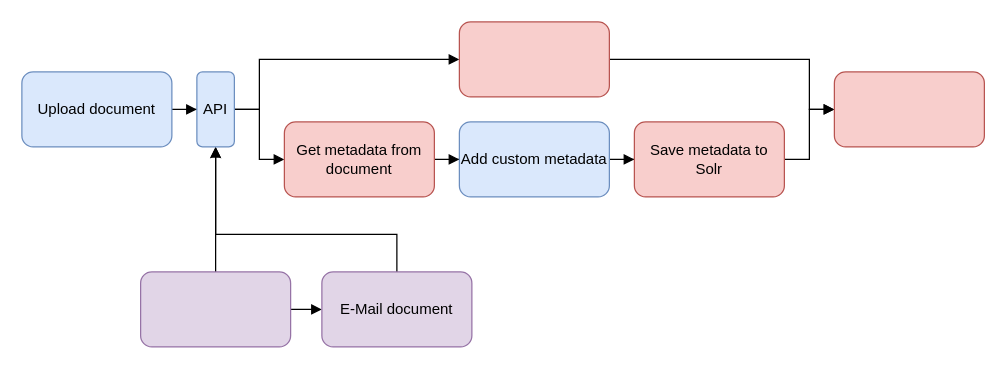
Image size: 1006x369. Some labels were removed from this diagram. The shapes that lost their labels are listed below. From the top down, each one's centre as x and y in pixels, then its label:
At pixel 533 59: "Save file to MongoDB".
At pixel 908 109: "Synchronize document to metadata".
At pixel 215 309: "Printer-extension: Scan document".
